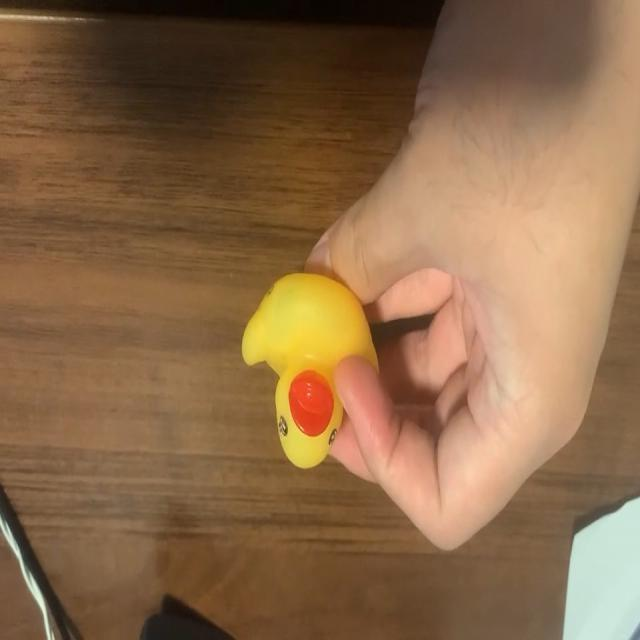rubber-duck: (241, 272, 376, 466)
